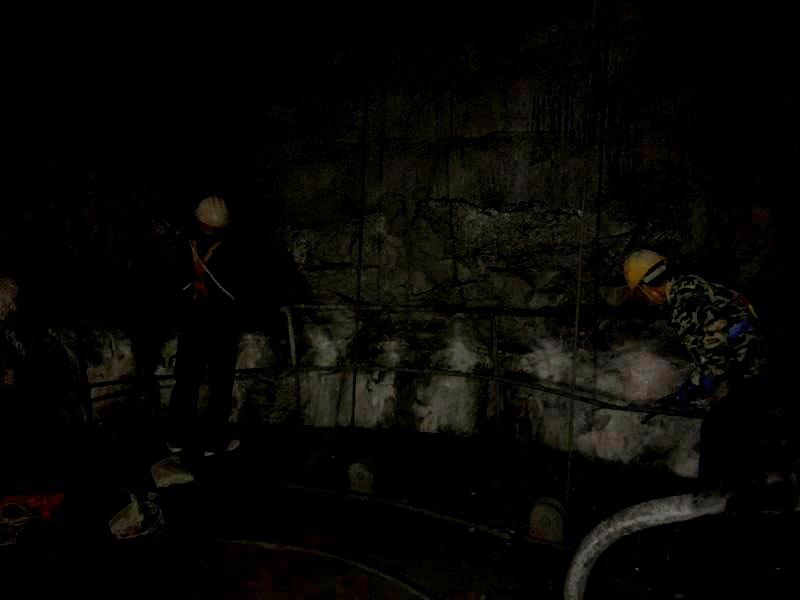helmet: (624, 248, 675, 305), (195, 195, 228, 235)
